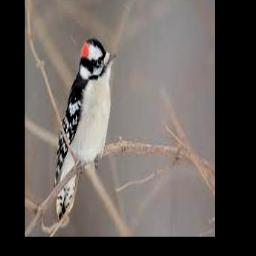Woodpecker: (54, 38, 116, 222)
